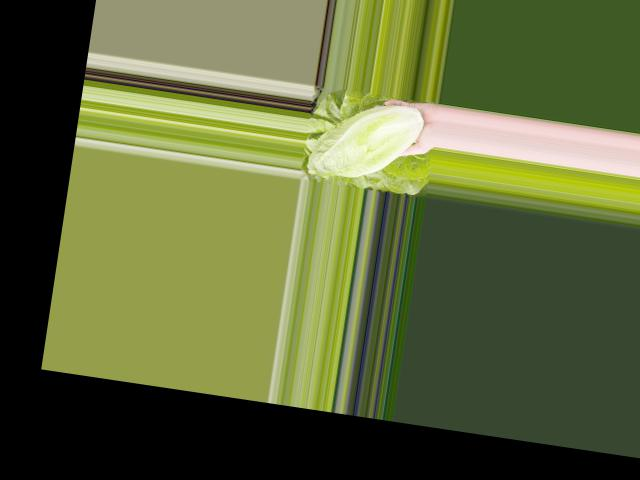lettuce: (305, 90, 427, 190)
